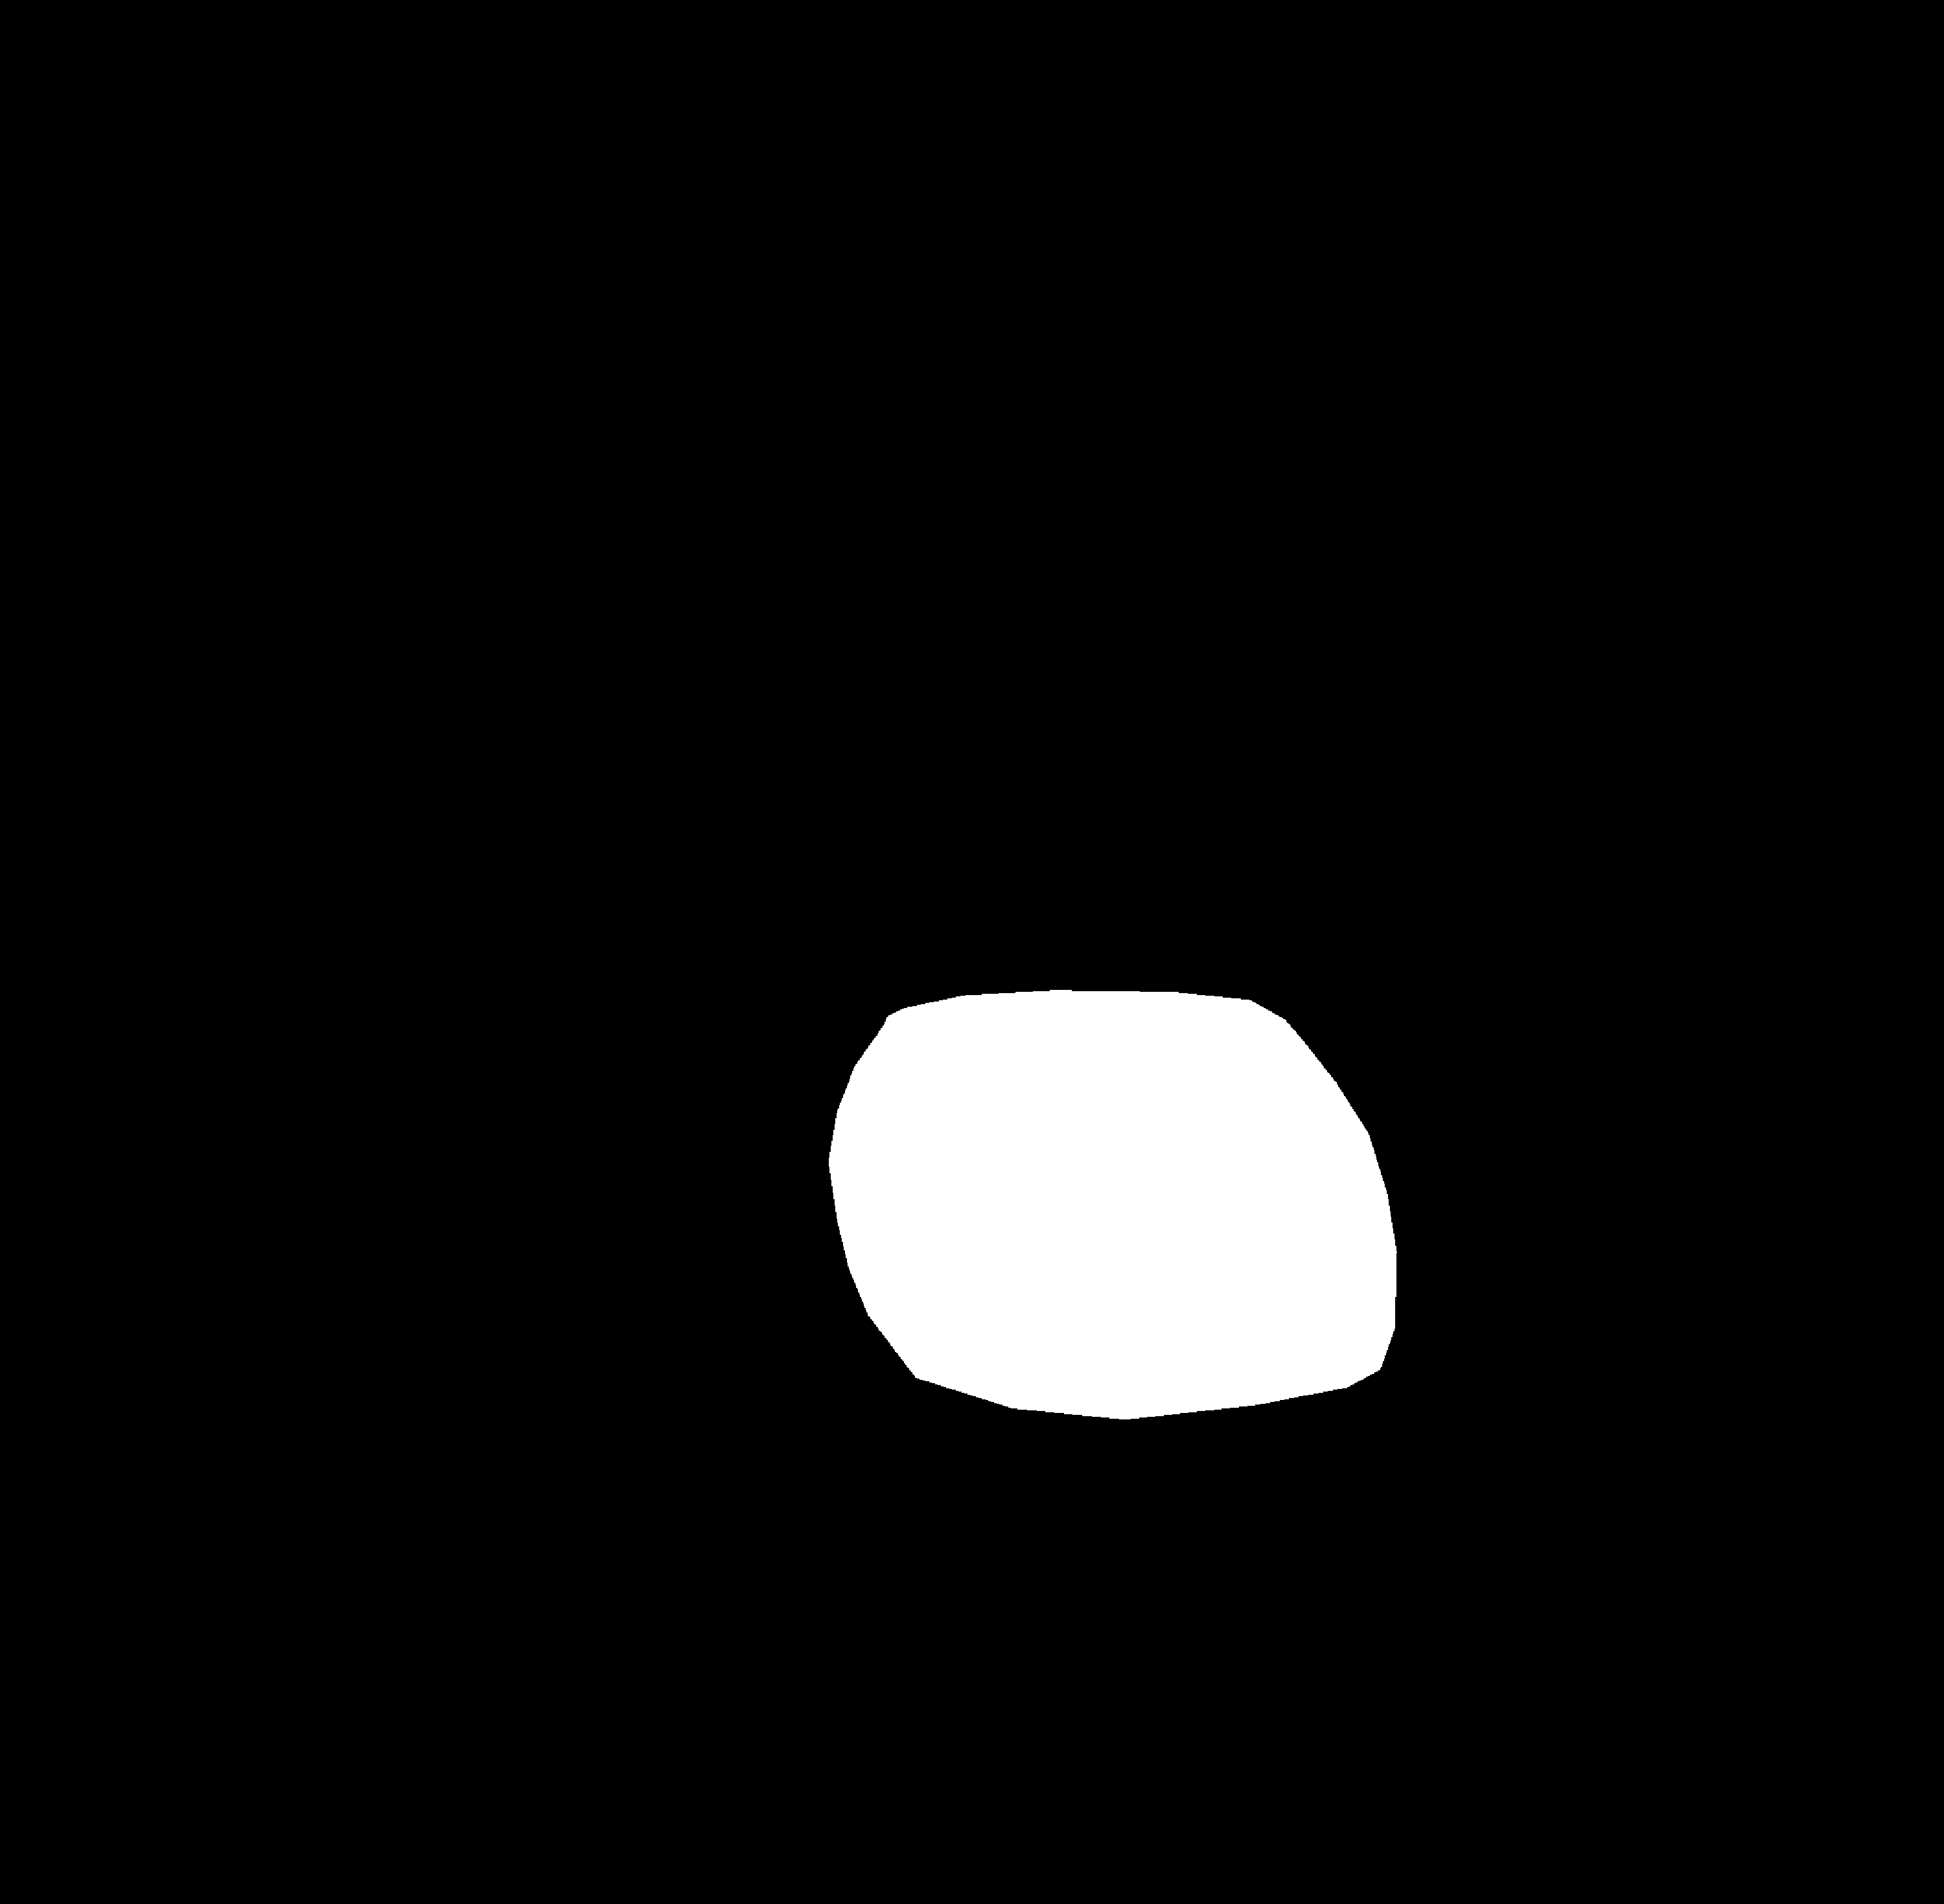heart: (830, 1011, 1391, 1425)
left_lung: (399, 417, 962, 1557)
right_lung: (1088, 425, 1627, 1536)
